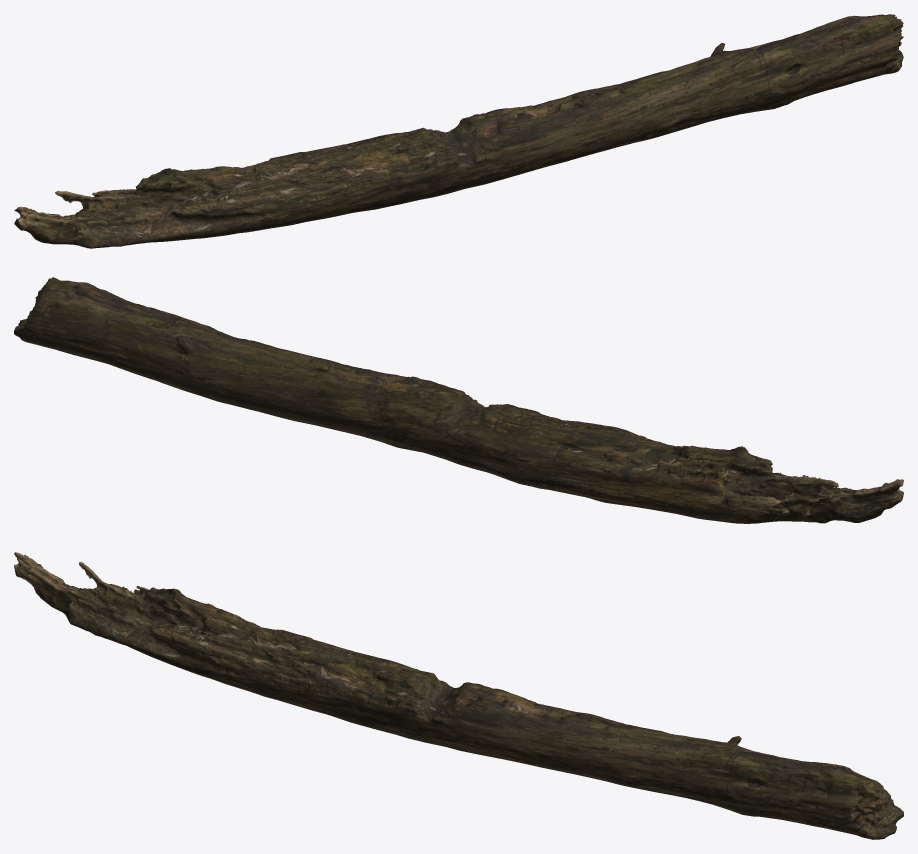
The model's file is dead_tree_trunk.glb.
3 views of the same model, one above another, from view 1: azimuth 30°, elevation 25°; view 2: azimuth 150°, elevation 25°; view 3: azimuth 330°, elevation 25° (orthographic).
Visible parts, largest first — view 1: dead_tree_trunk; view 2: dead_tree_trunk; view 3: dead_tree_trunk.
Boxes of the visible parts, bbox=[...] form: dead_tree_trunk: bbox=[14, 14, 903, 248]; dead_tree_trunk: bbox=[14, 277, 903, 523]; dead_tree_trunk: bbox=[14, 552, 903, 839].
Bounding box in the file's own units: 3.05 × 0.2905 × 0.2775.
1 material, 1 textured.
